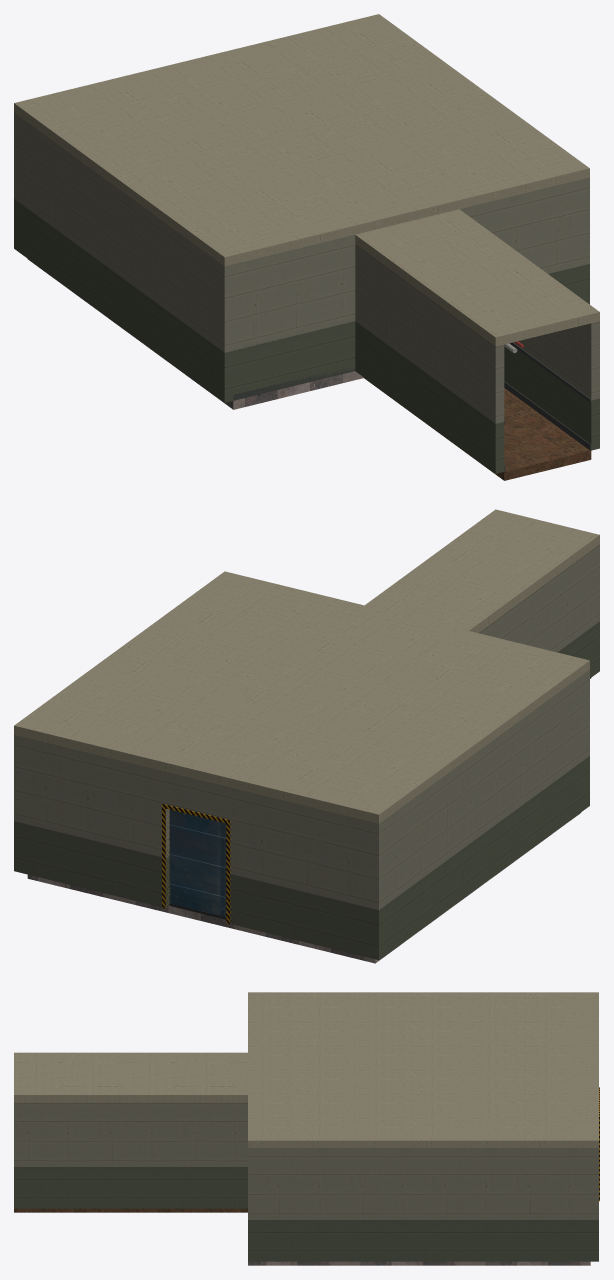
The model's file is monitor.glb.
3 views of the same model, one above another, from view 1: azimuth 30°, elevation 25°; view 2: azimuth 150°, elevation 25°; view 3: azimuth 270°, elevation 25° (orthographic). The views are drawn at different scales.
Visible parts, largest first — view 1: MON_static; view 2: MON_static, DOOR_monExit; view 3: MON_static.
Part boxes in pixels (x1=…): MON_static: x1=14, y1=14, x2=599, y2=480; MON_static: x1=14, y1=509, x2=599, y2=963; DOOR_monExit: x1=169, y1=809, x2=226, y2=919; MON_static: x1=14, y1=992, x2=599, y2=1265.
Bounding box in the file's own units: 8.4 × 3.4 × 14.02.
26 materials, 11 textured.
